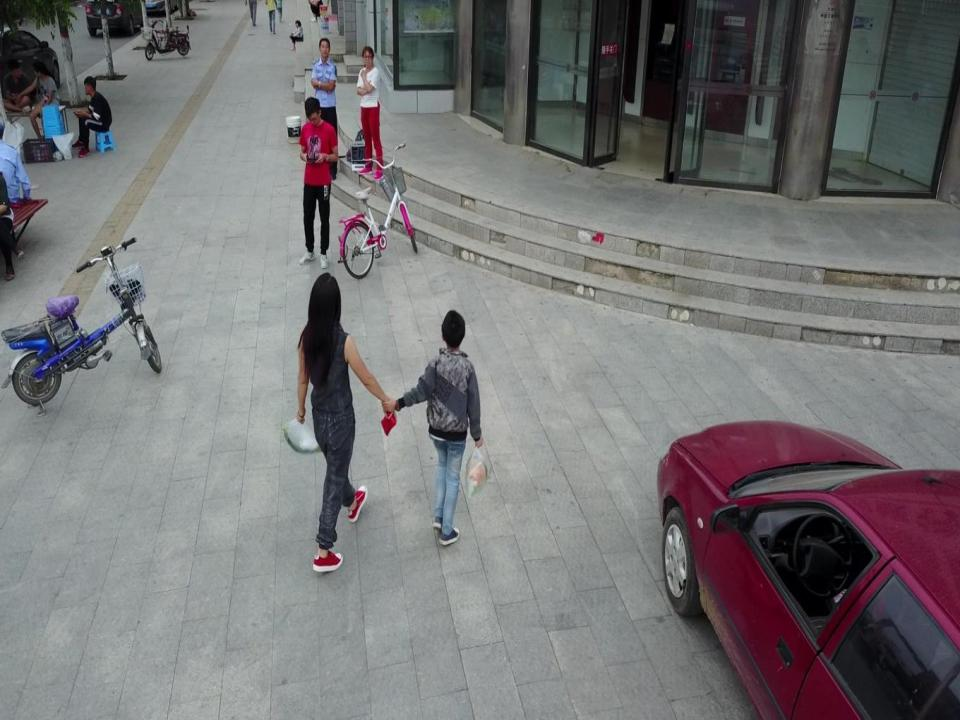car: (654, 420, 960, 719), (0, 28, 59, 98), (85, 0, 146, 36)
